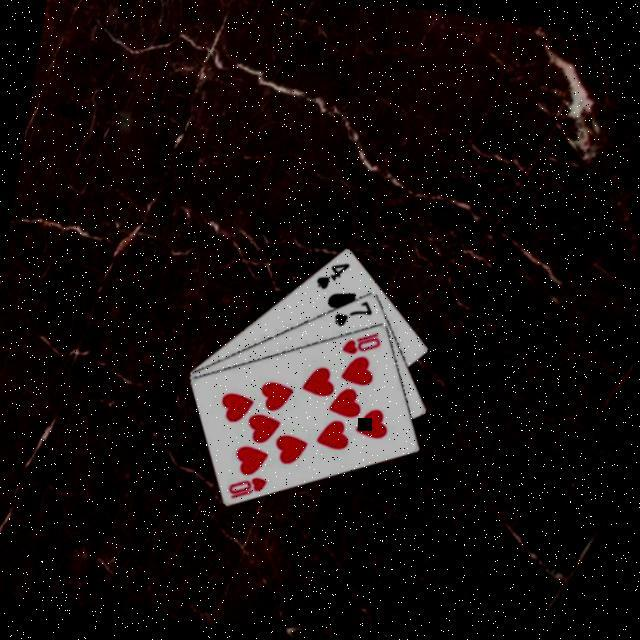10H: (338, 324, 384, 360), (224, 469, 270, 505)
4S: (312, 255, 353, 294)
7S: (329, 292, 376, 332)
